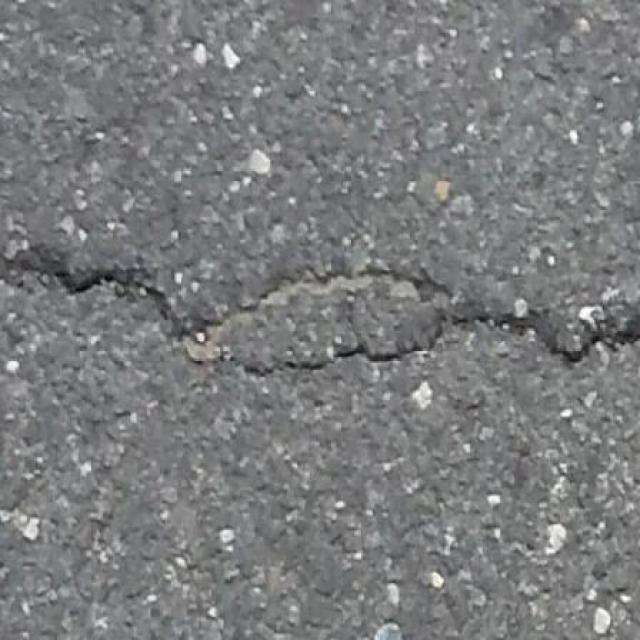pothole: (0, 235, 640, 399)
